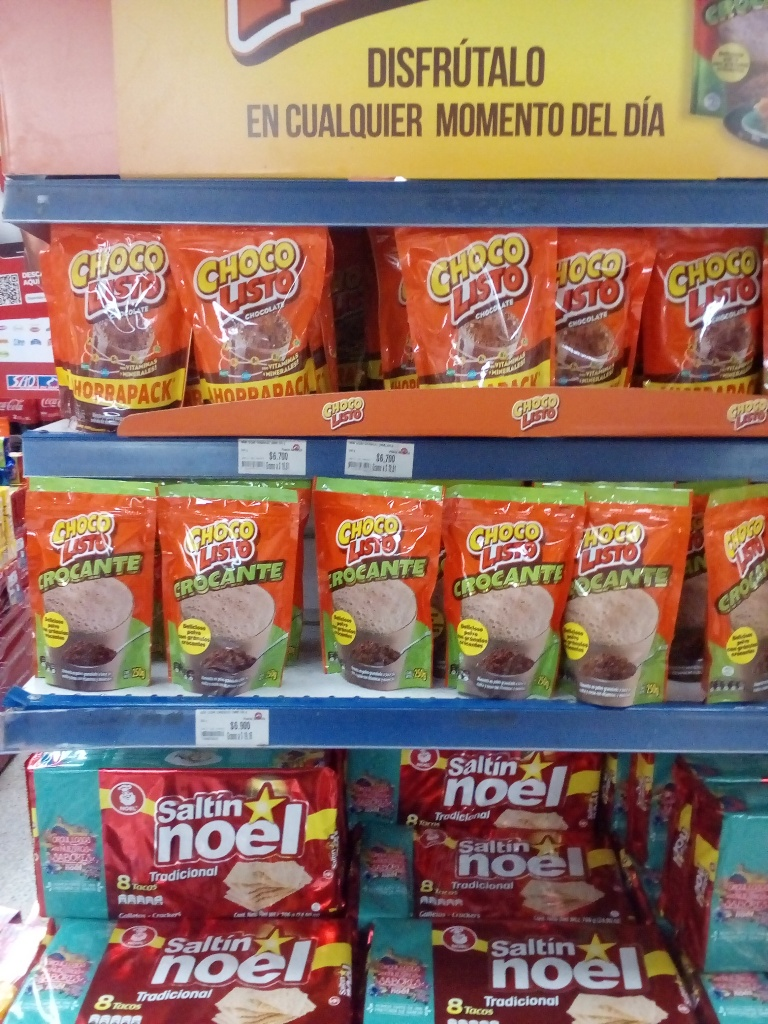COL0170102DYP25000: (21, 478, 153, 700)
COL0170103DYP36000: (45, 227, 207, 435)
